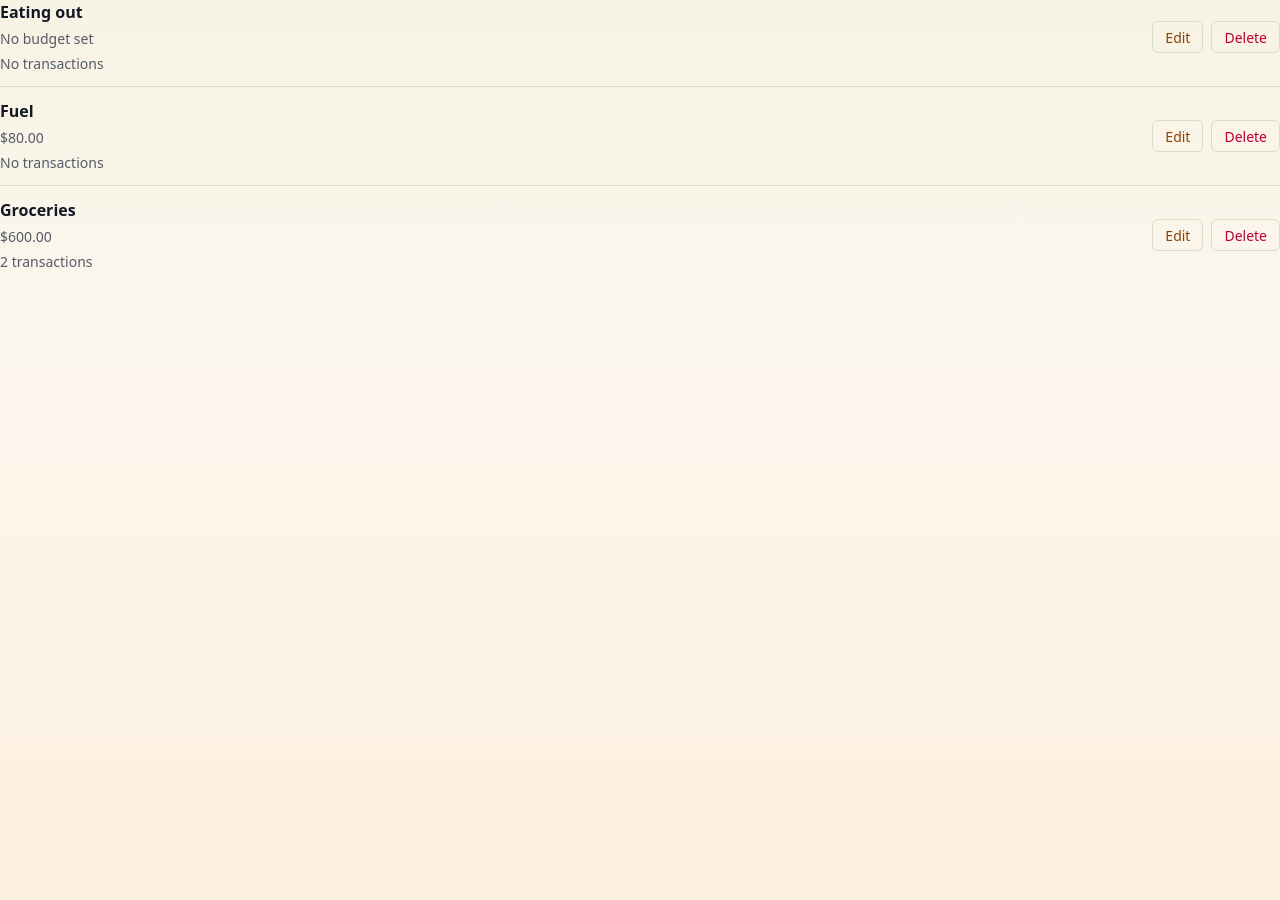
it: deleting a category › deletes on confirm, updates storage and announces it
Step 1. Click the button "Delete" in the row of "$80.00" → (1246, 136), box [1211,120,1279,152]
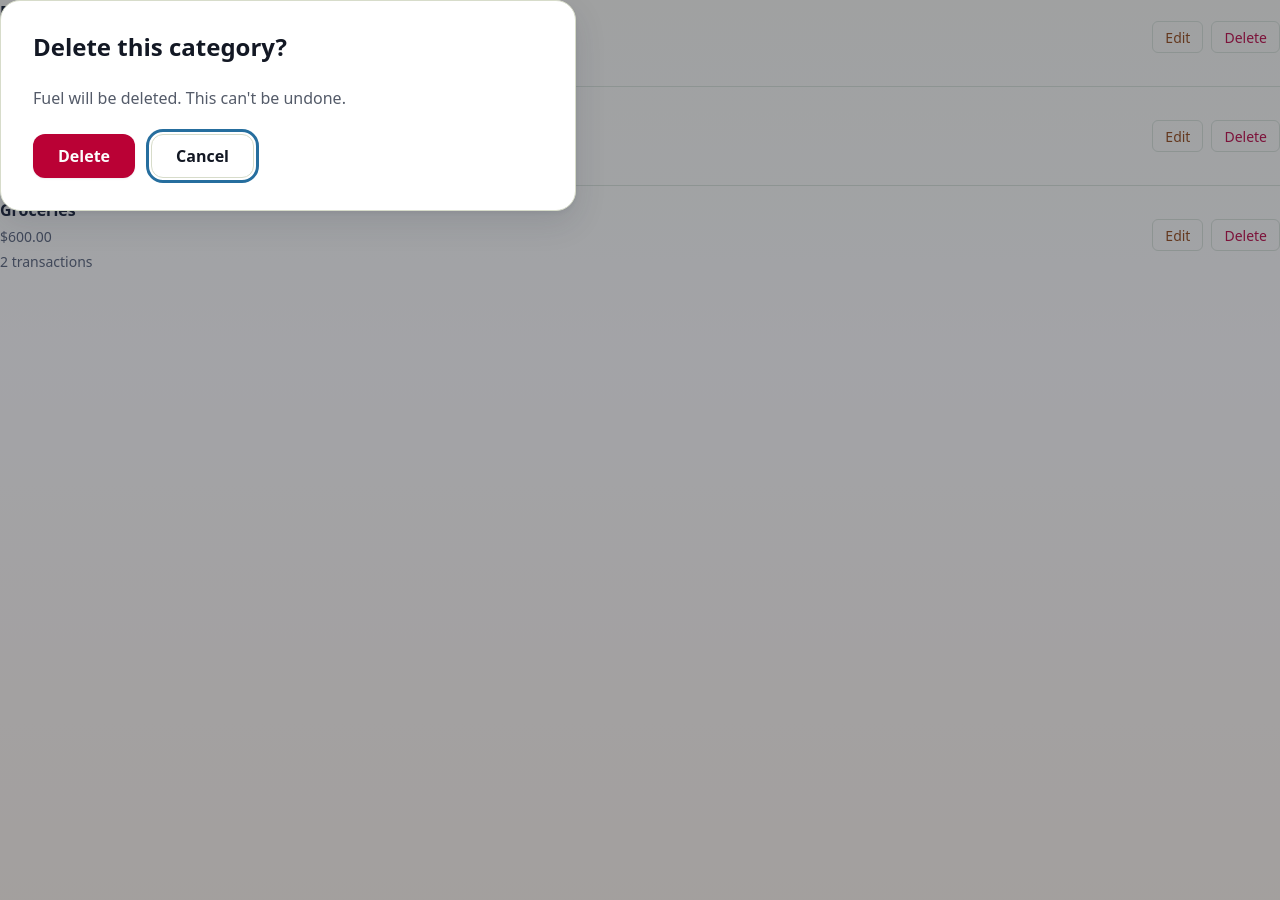
Step 2. Click the button "Delete" → (84, 156), box [33,134,135,178]
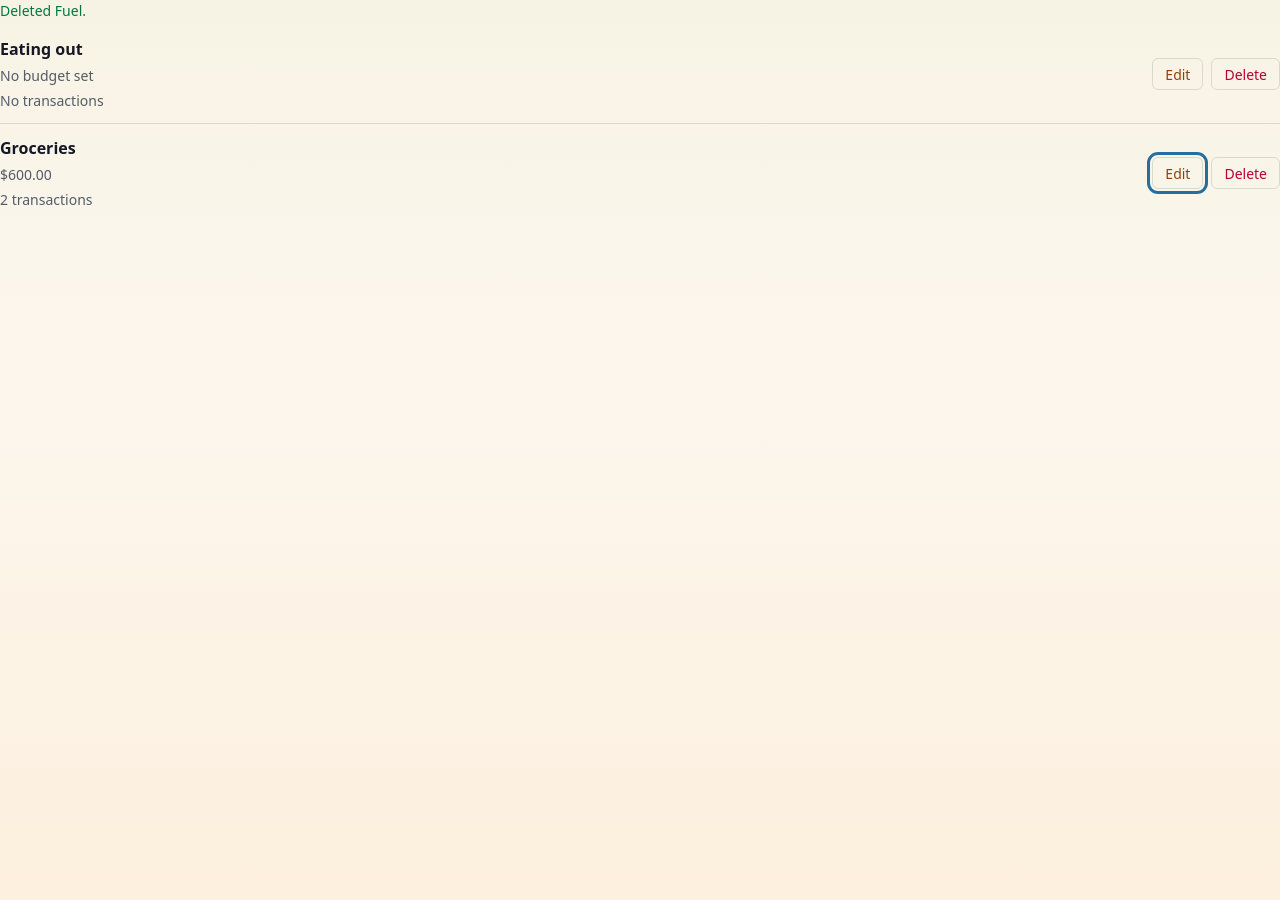
Check: the dialog is gone
Check: the message reads "Deleted Fuel.", box [0,1,86,20]
